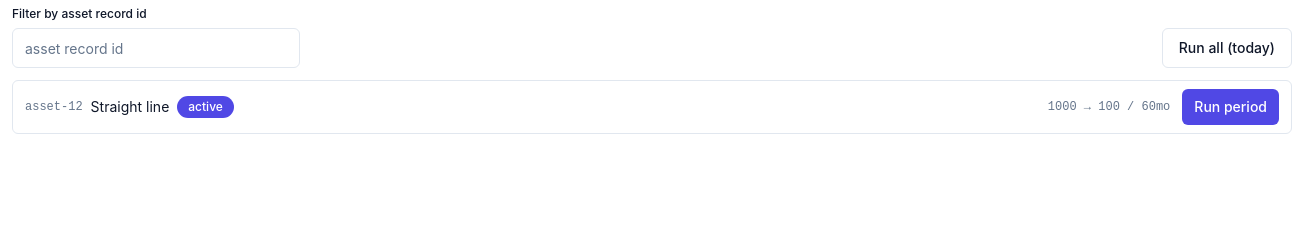
SchedulesList › shows posted entries when a schedule is expanded
Click the button with aria-label "Schedule s1" at (129, 107), box left=25, top=96, right=234, bottom=118
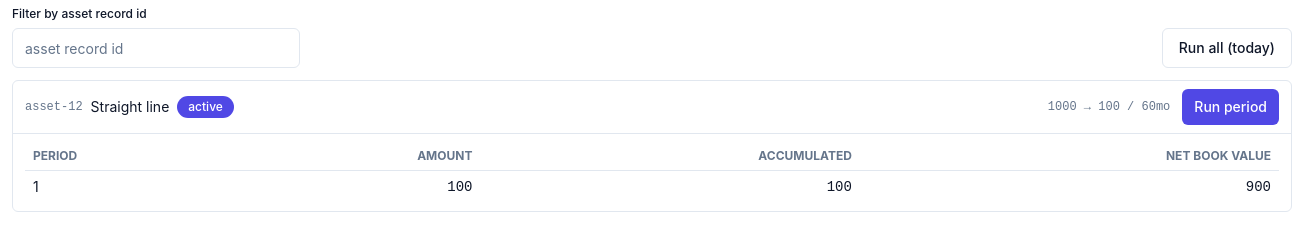
expect the text "900" is shown: met, box left=860, top=170, right=1279, bottom=203
